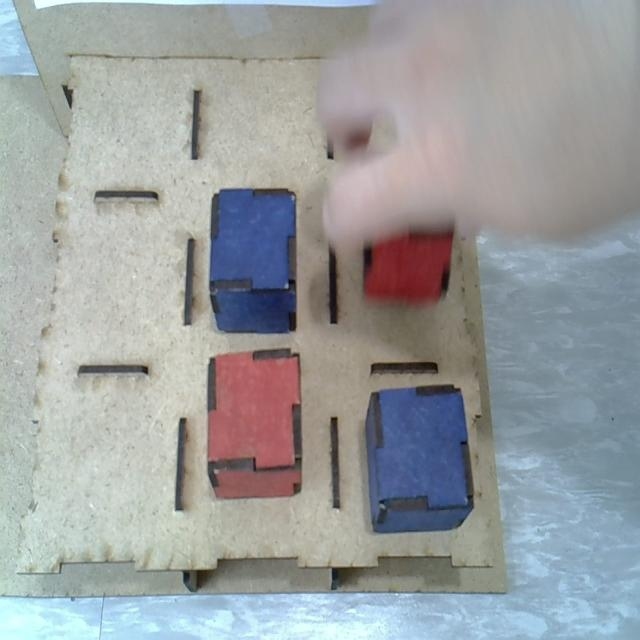blue_box: (366, 385, 474, 533), (208, 186, 298, 334)
red_box: (207, 347, 305, 499)
